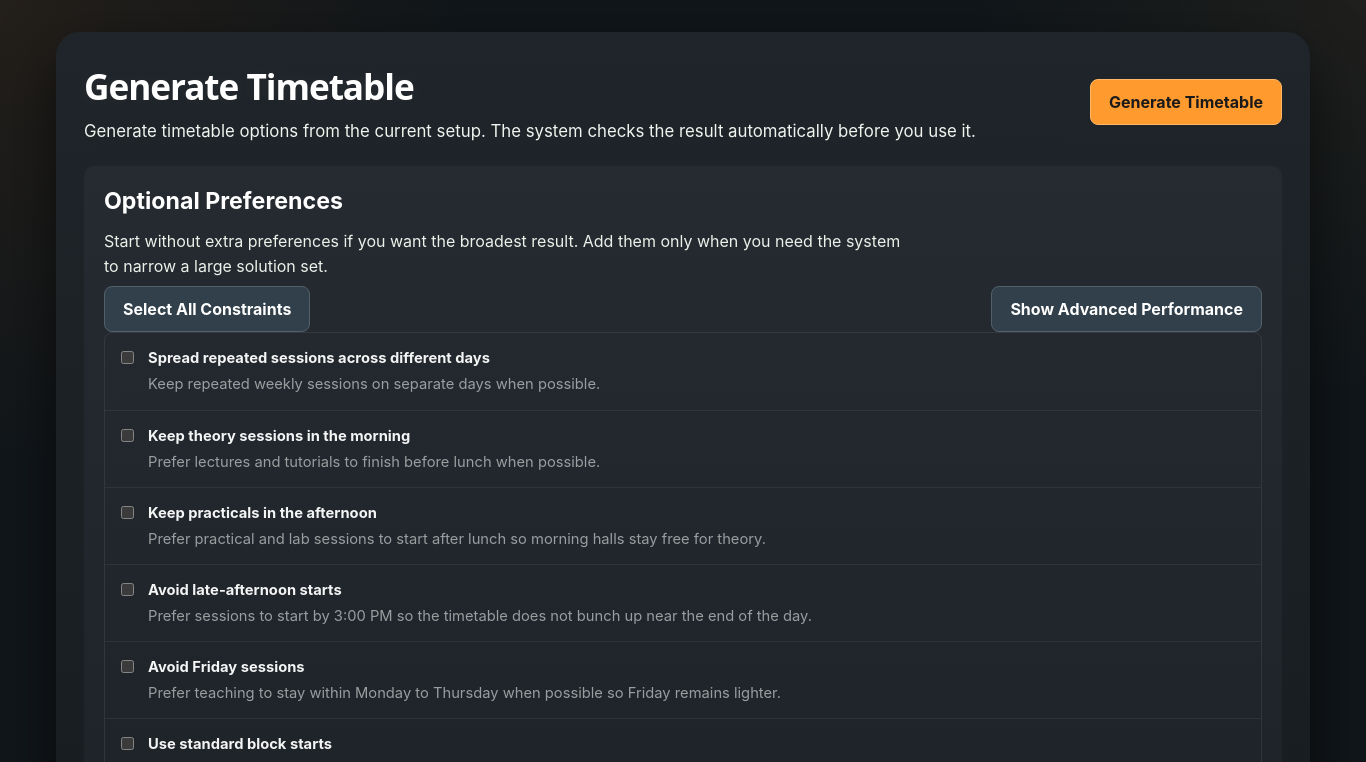
GenerateStudio › selects all available nice-to-have constraints with one action
Step 1. Click the button "Select All Constraints" → (207, 309), box [104,286,310,332]
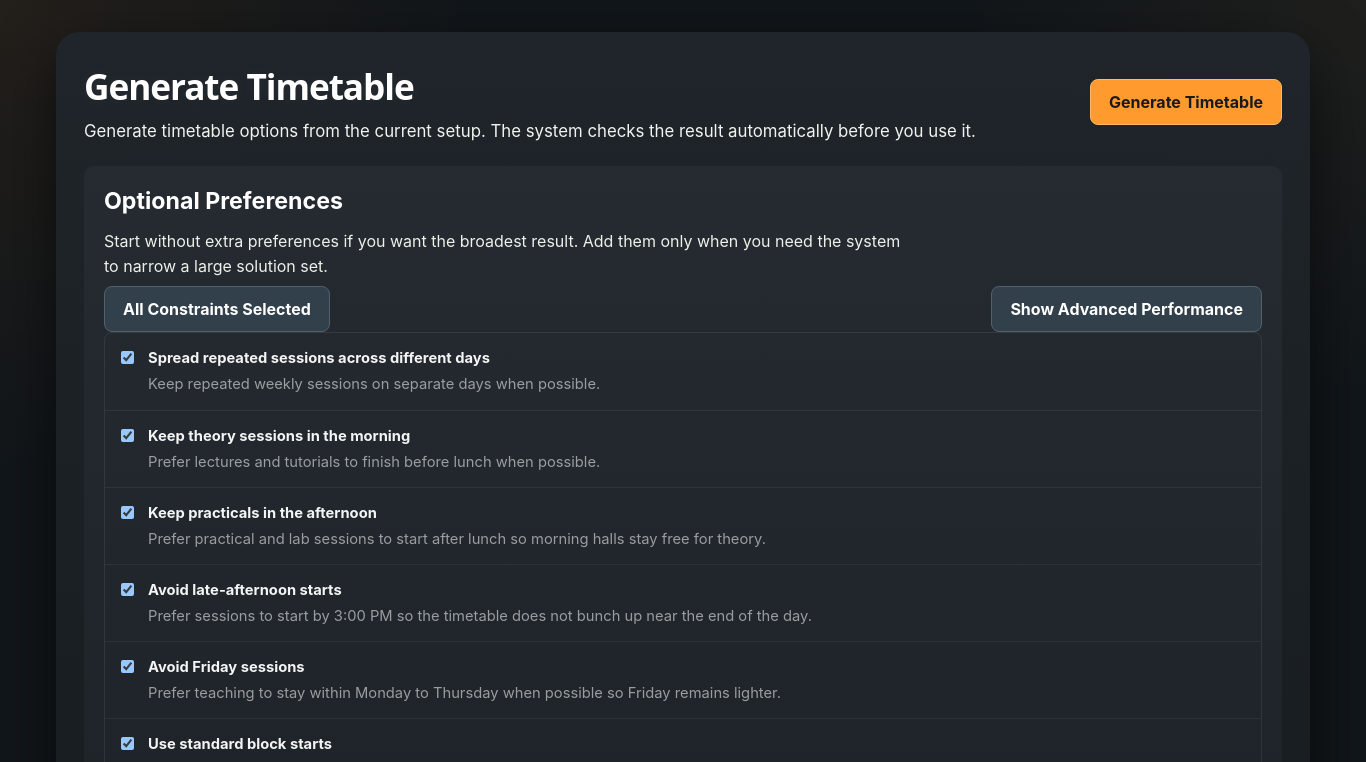
Expected: the checkbox labelled "Spread repeated sessions across different days" is checked, [121,351,134,364]
Expected: the checkbox labelled "Keep theory sessions in the morning" is checked, [121,428,134,442]
Expected: the checkbox labelled "Keep practicals in the afternoon" is checked, [121,506,134,519]
